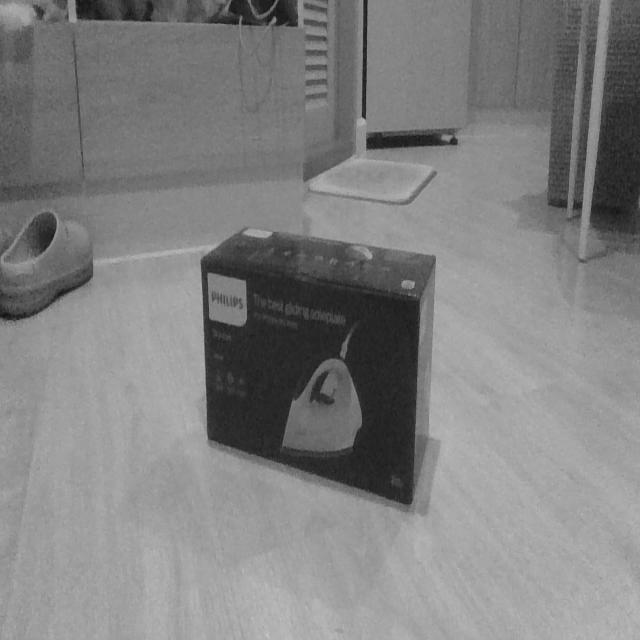IRON: (198, 221, 438, 512)
